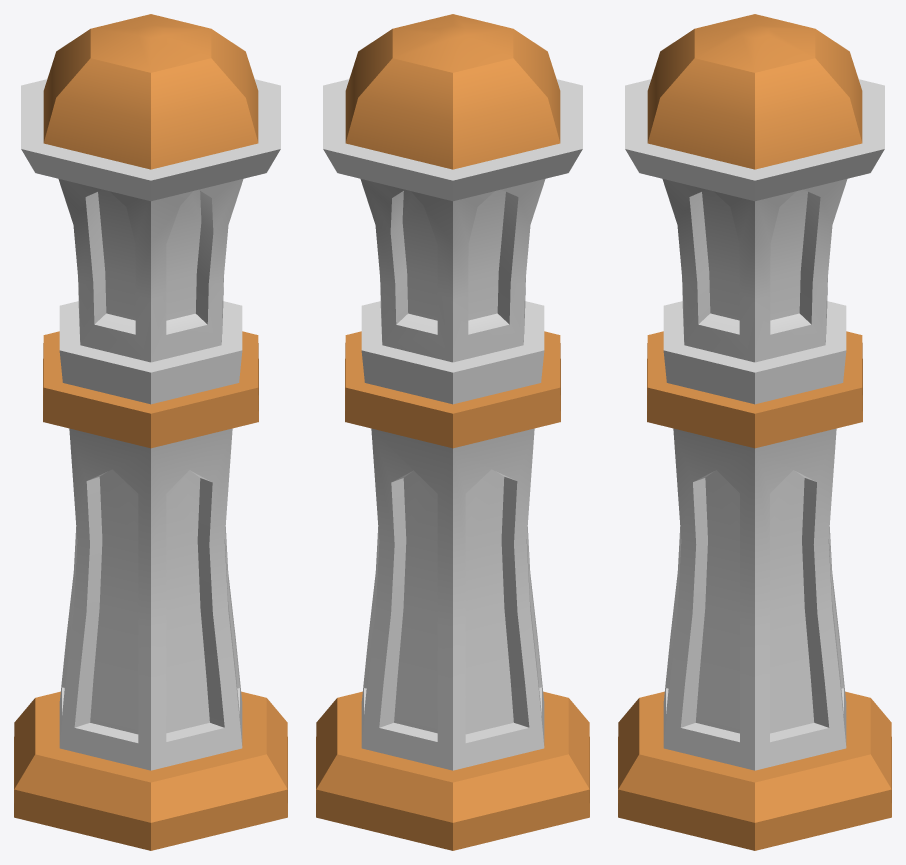
Rendered from Tower1.fbx.
3 views of the same model, side by side, from view 1: azimuth 30°, elevation 25°; view 2: azimuth 150°, elevation 25°; view 3: azimuth 270°, elevation 25° (orthographic).
Visible parts, largest first — view 1: Tower1; view 2: Tower1; view 3: Tower1.
Part boxes in pixels (left/top/right/bottom): Tower1: left=14, top=14, right=287, bottom=850; Tower1: left=316, top=14, right=589, bottom=850; Tower1: left=618, top=14, right=891, bottom=850.
Bounding box in the file's own units: 779 × 2045 × 675.
